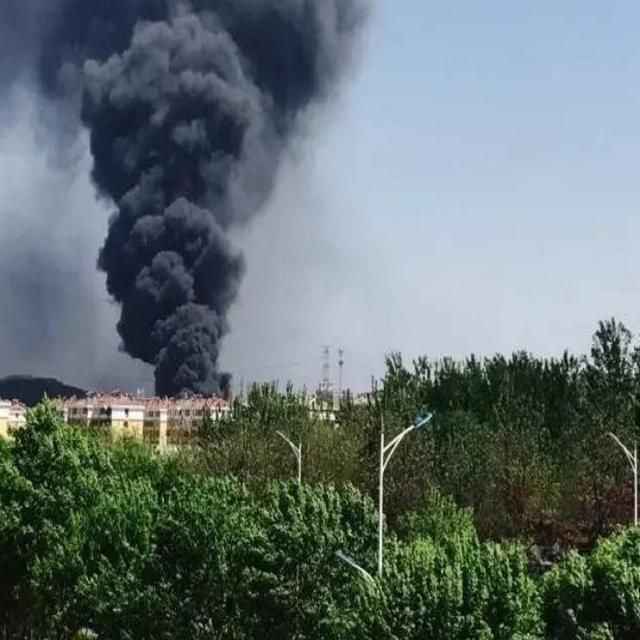Smoke: (0, 1, 372, 402)
